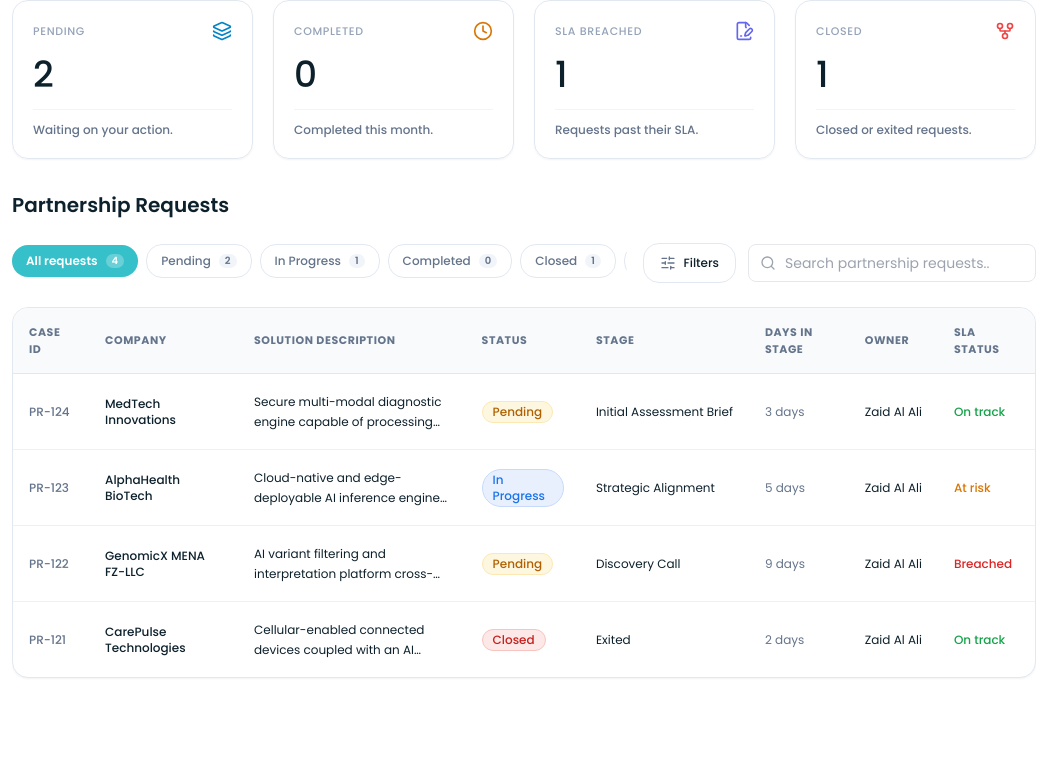
Test: DashboardScreen › searches by Case ID
Type "pr-122" into the search field with placeholder "Search partnership requests...".
click(892, 263); type("pr-122")  # box [748,244,1036,282]
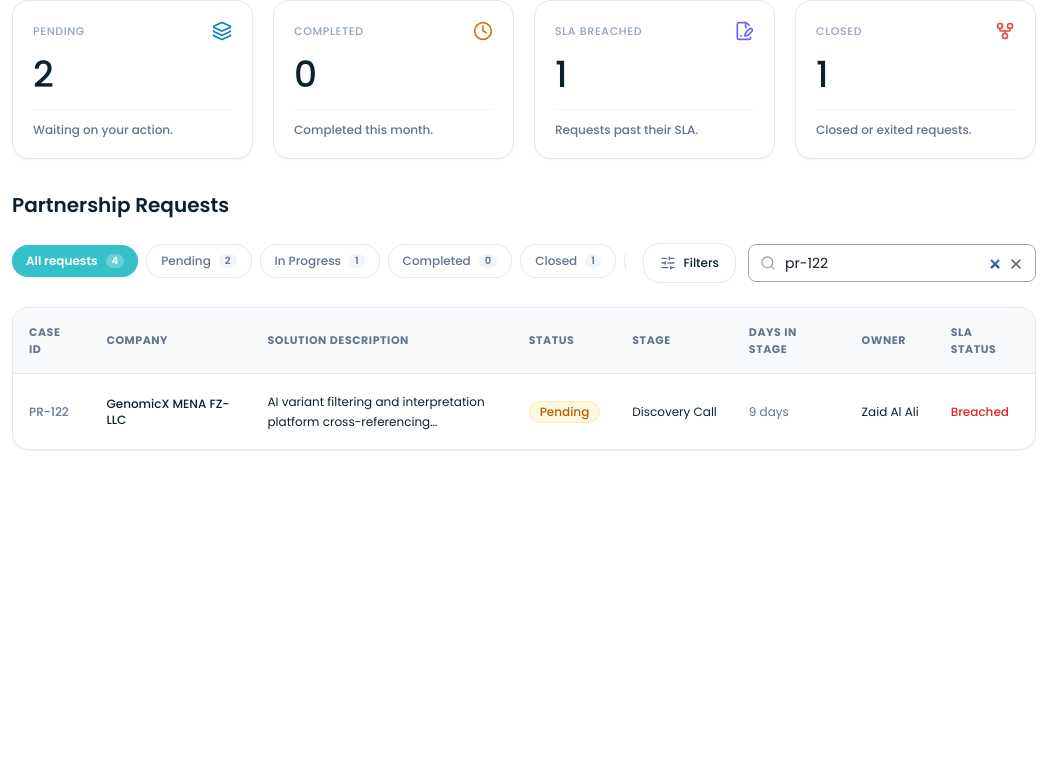
Check: the text "GenomicX MENA FZ-LLC" is shown, box [90,374,252,449]
Check: the text "MedTech Innovations" is gone
